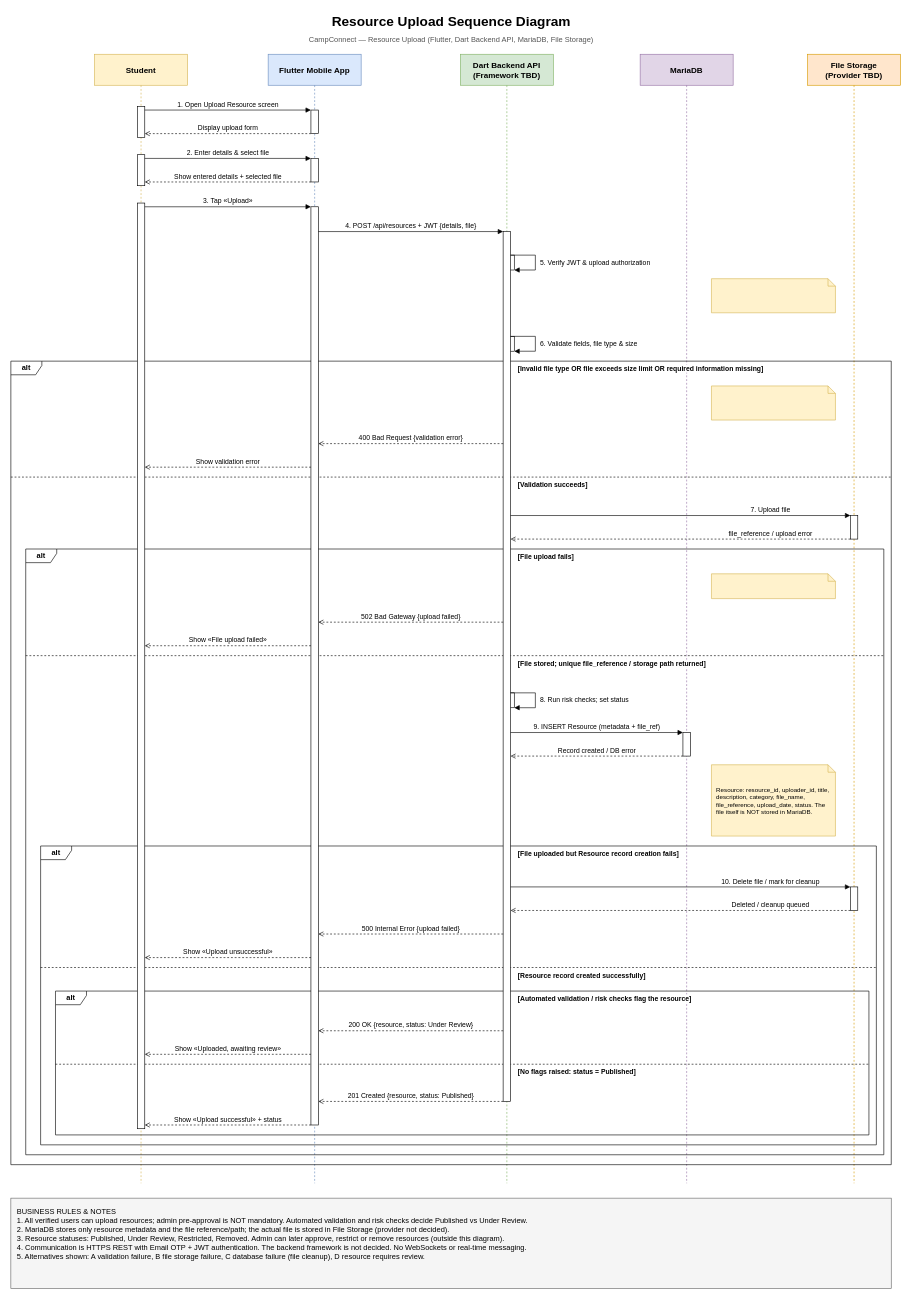
The diagram is 911 pixels wide and 1300 high, and some of its shapes have lost their labels. The shapes that lost their labels are listed below. From the top down, each one's centre as x and y in pixels, then its label:
(773,295): Invalid/expired JWT or user not verified: 401/403 returned and the flow stops.
(773,402): File is NOT sent to File Storage; NO Resource record is created.
(773,586): NO Published Resource record is created.
